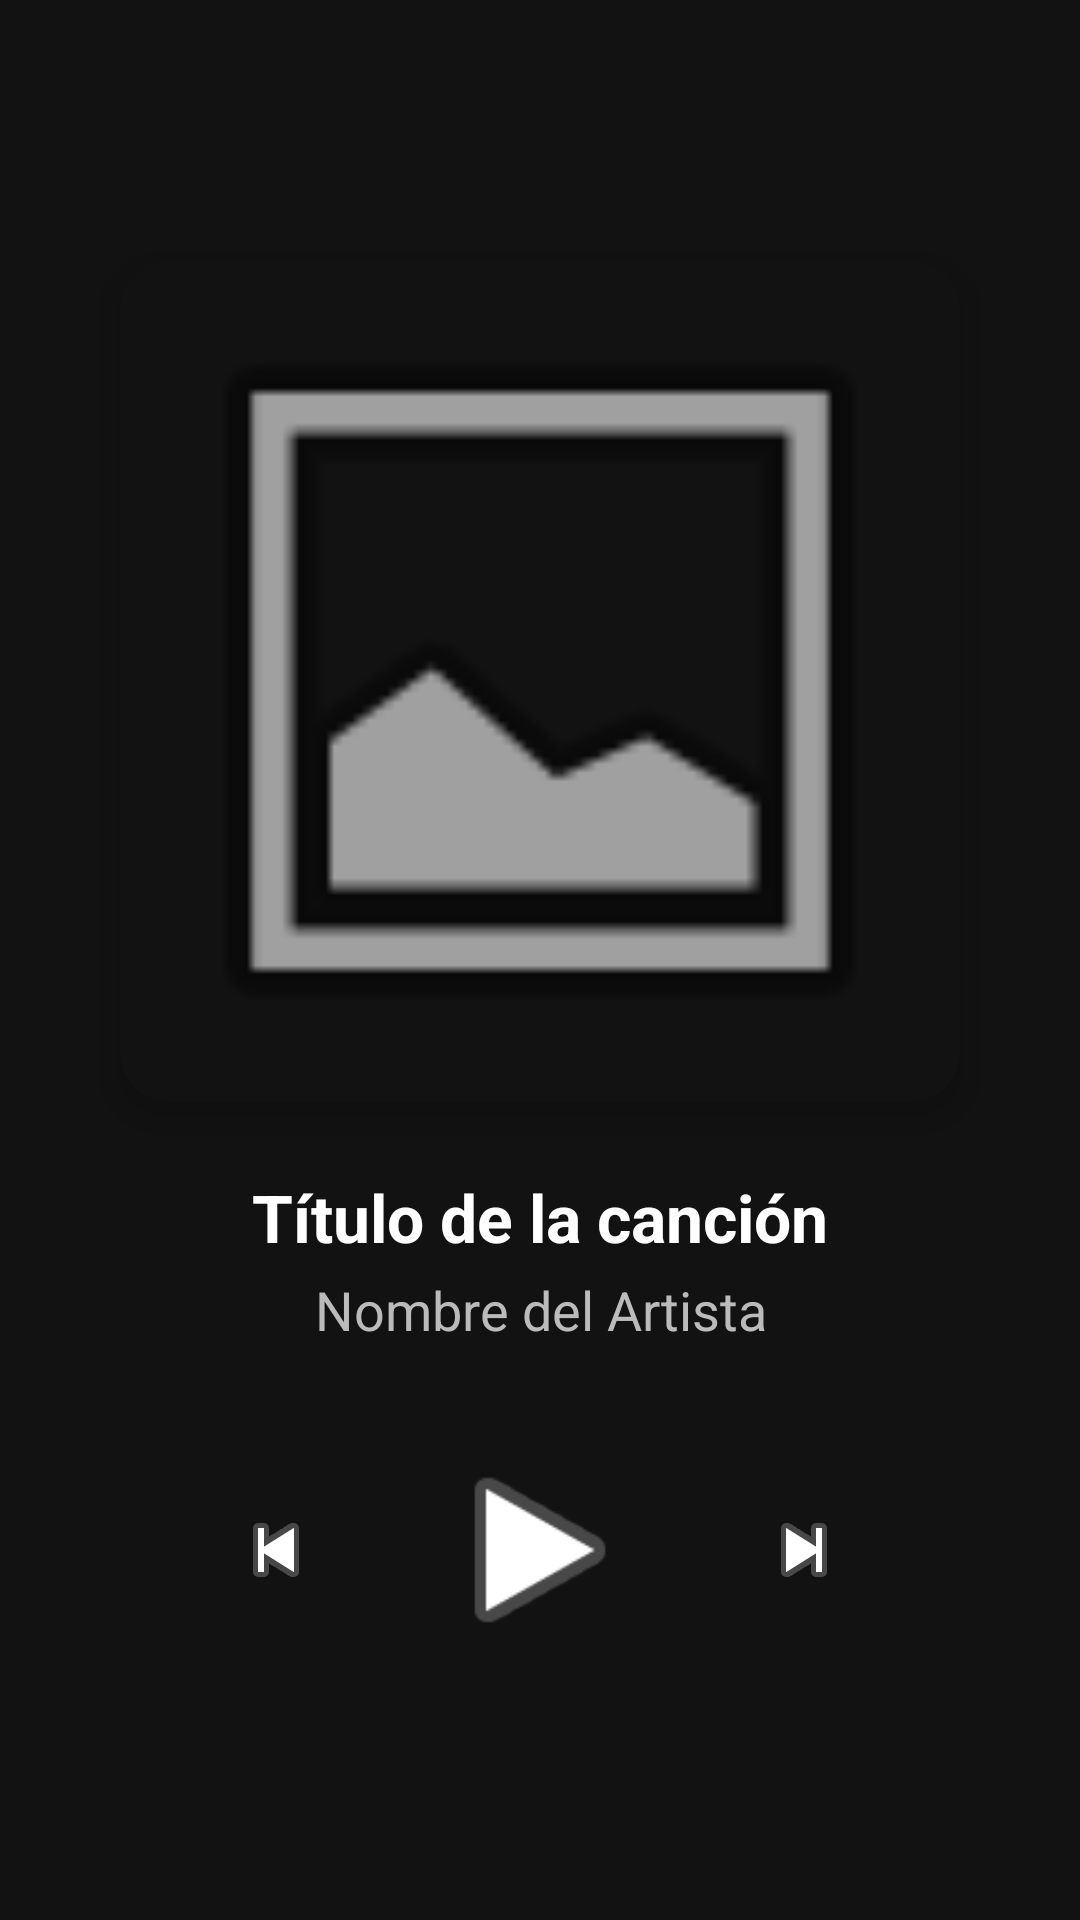

Where icons sit on this 1080x1920 app screen, as [x1, y1, x2, y2]:
Next: [781, 1523, 827, 1577]
Play/Pause: [475, 1478, 605, 1622]
Previous: [253, 1523, 299, 1577]
